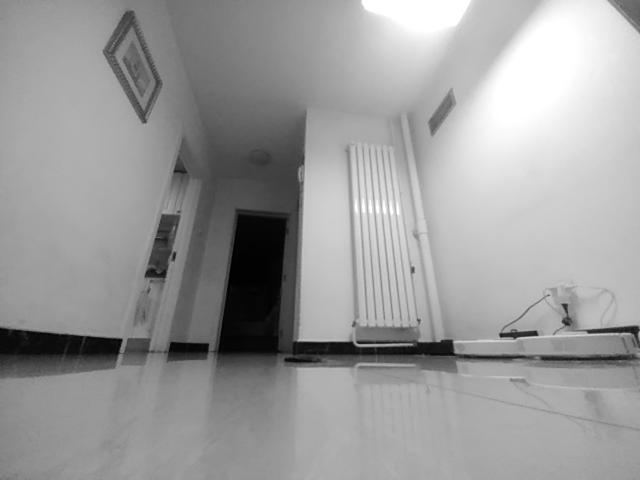others: (284, 354, 325, 366)
